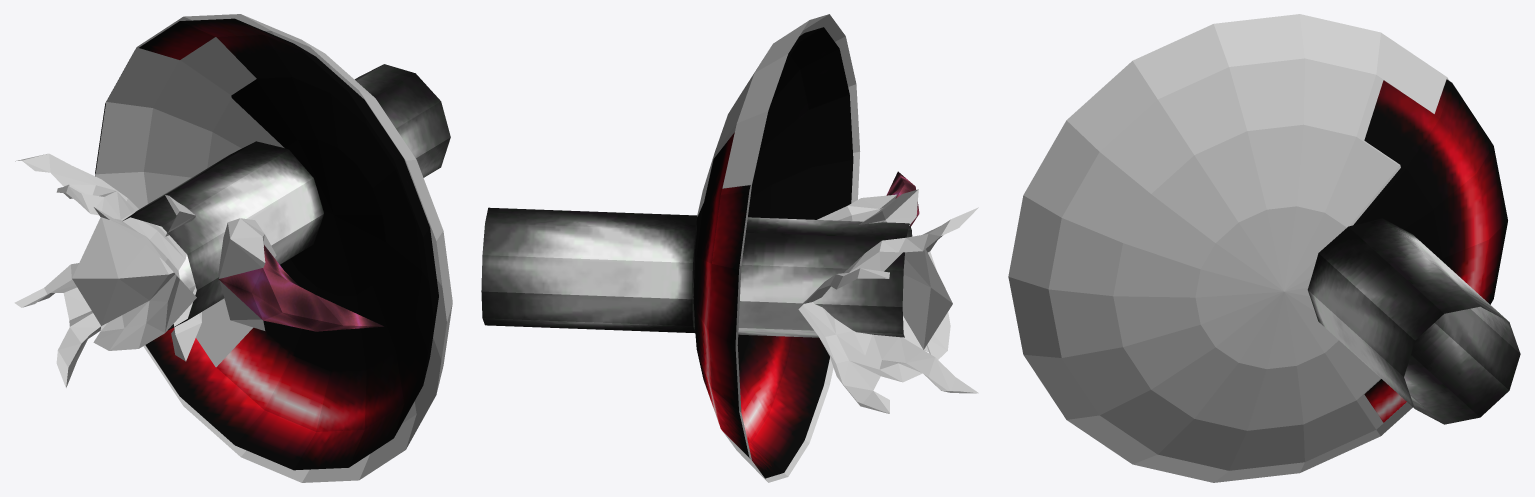
Rendered from common_shoulder_93916.obj.
3 renders of one model, left to right at view 1: azimuth 30°, elevation 25°; view 2: azimuth 150°, elevation 25°; view 3: azimuth 270°, elevation 25°, orthographic. The views are drawn at different scales.
Visible parts, largest first — view 1: Sphere02, Sphere01, common_shoulder_93916, Cylinder01, Cylinder02, Object01lg, common_shoulder_93916_1, common_shoulder_93916_3, common_shoulder_93916_4; view 2: Sphere02, Cylinder02, Cylinder01, common_shoulder_93916, Sphere01, common_shoulder_93916_4, common_shoulder_93916_1; view 3: Sphere01, Cylinder02, Sphere02.
Boxes of the visible parts, <box> form: Sphere02: <box>95,18,438,470</box>; Sphere01: <box>95,14,452,482</box>; common_shoulder_93916: <box>14,153,196,388</box>; Cylinder01: <box>123,141,323,330</box>; Cylinder02: <box>277,64,450,217</box>; Object01lg: <box>218,245,383,331</box>; common_shoulder_93916_1: <box>218,218,276,330</box>; common_shoulder_93916_3: <box>171,287,201,361</box>; common_shoulder_93916_4: <box>165,195,195,236</box>; Sphere02: <box>693,27,853,478</box>; Cylinder02: <box>481,207,697,332</box>; Cylinder01: <box>692,217,912,337</box>; common_shoulder_93916: <box>798,207,978,413</box>; Sphere01: <box>697,14,860,482</box>; common_shoulder_93916_4: <box>859,189,918,225</box>; common_shoulder_93916_1: <box>817,194,896,221</box>; Sphere01: <box>1008,14,1449,482</box>; Cylinder02: <box>1307,219,1520,424</box>; Sphere02: <box>1353,79,1507,422</box>.
Size of the model in its own units: 35.09 by 33.2 by 33.57.
